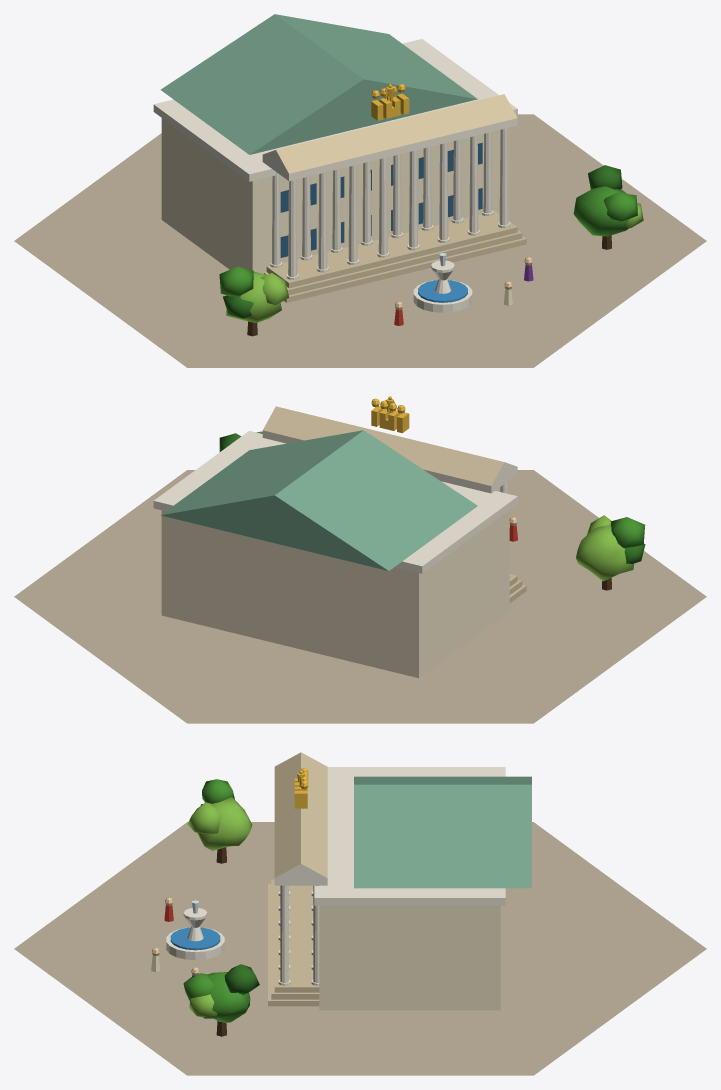
The model's file is wonder_bolshoi_theatre.fbx.
The picture shows the model from 3 angles, top to bottom: view 1: azimuth 30°, elevation 25°; view 2: azimuth 150°, elevation 25°; view 3: azimuth 270°, elevation 25°; orthographic projection.
Visible parts, largest first — view 1: wonder_bolshoi_theatre; view 2: wonder_bolshoi_theatre; view 3: wonder_bolshoi_theatre.
Boxes of the visible parts, <box> form: wonder_bolshoi_theatre: <box>14,14,706,367</box>; wonder_bolshoi_theatre: <box>14,396,706,723</box>; wonder_bolshoi_theatre: <box>14,752,706,1075</box>.
Size of the model in its own units: 182 by 59.69 by 210.
